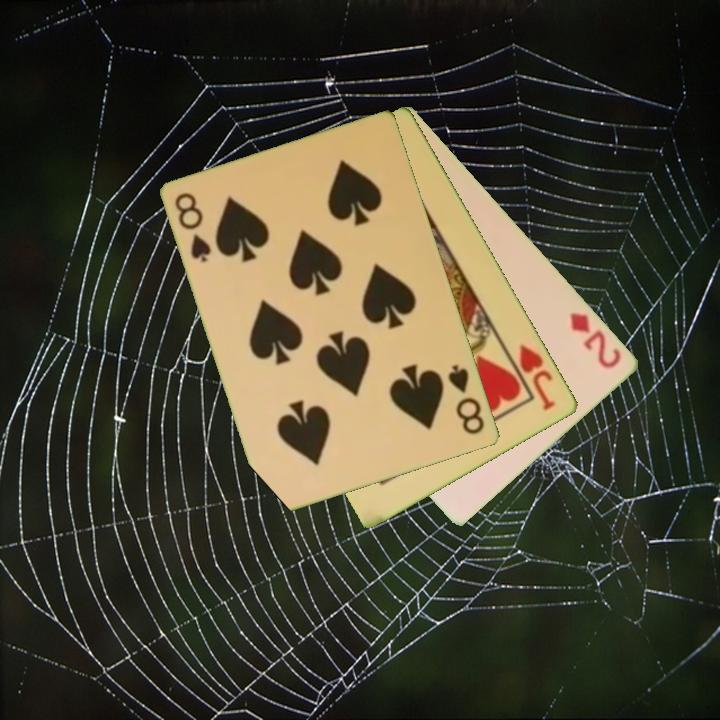2d: (566, 309, 625, 372)
8s: (171, 189, 215, 266), (445, 361, 488, 438)
Jh: (502, 340, 560, 414)
